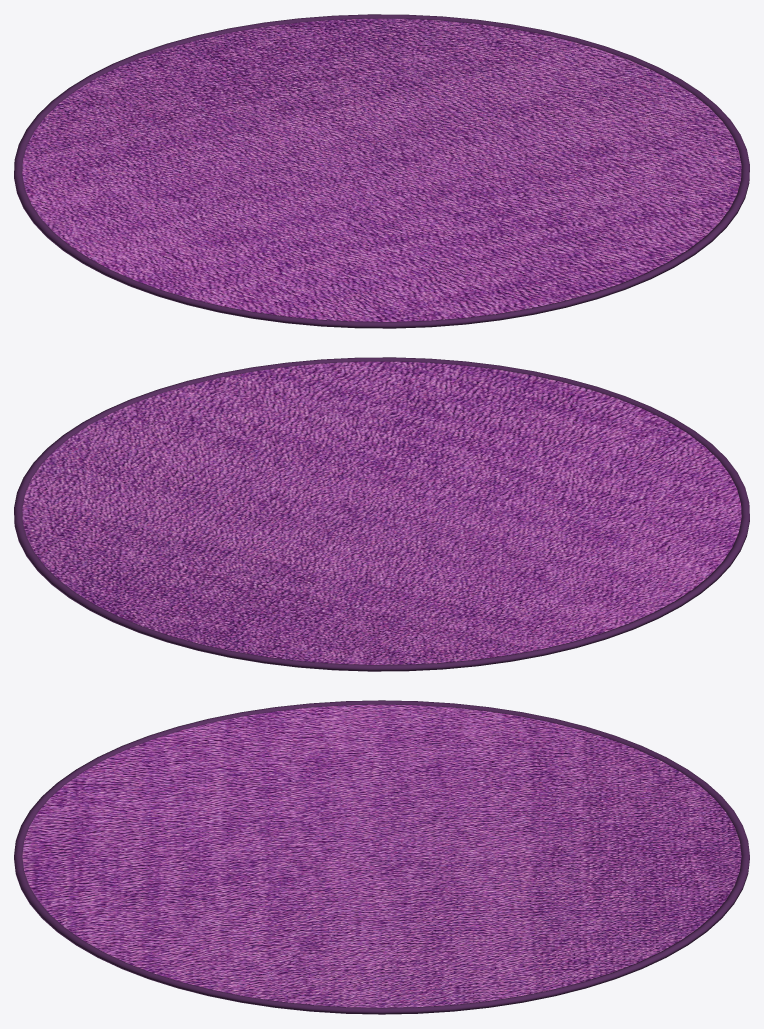
File: Carpet.glb
3 views of the same model, one above another, from view 1: azimuth 30°, elevation 25°; view 2: azimuth 150°, elevation 25°; view 3: azimuth 270°, elevation 25° (orthographic).
Parts seen in each view (by area): view 1: int_rug_Cylinder.001; view 2: int_rug_Cylinder.001; view 3: int_rug_Cylinder.001.
Boxes of the visible parts, x1,y1,x2,y2 form: int_rug_Cylinder.001: (14, 14, 749, 328); int_rug_Cylinder.001: (14, 357, 749, 671); int_rug_Cylinder.001: (14, 700, 749, 1014).
Bounding box in the file's own units: 1.62 × 0.0105 × 1.62.
Materials: 2 (1 with a texture image).
